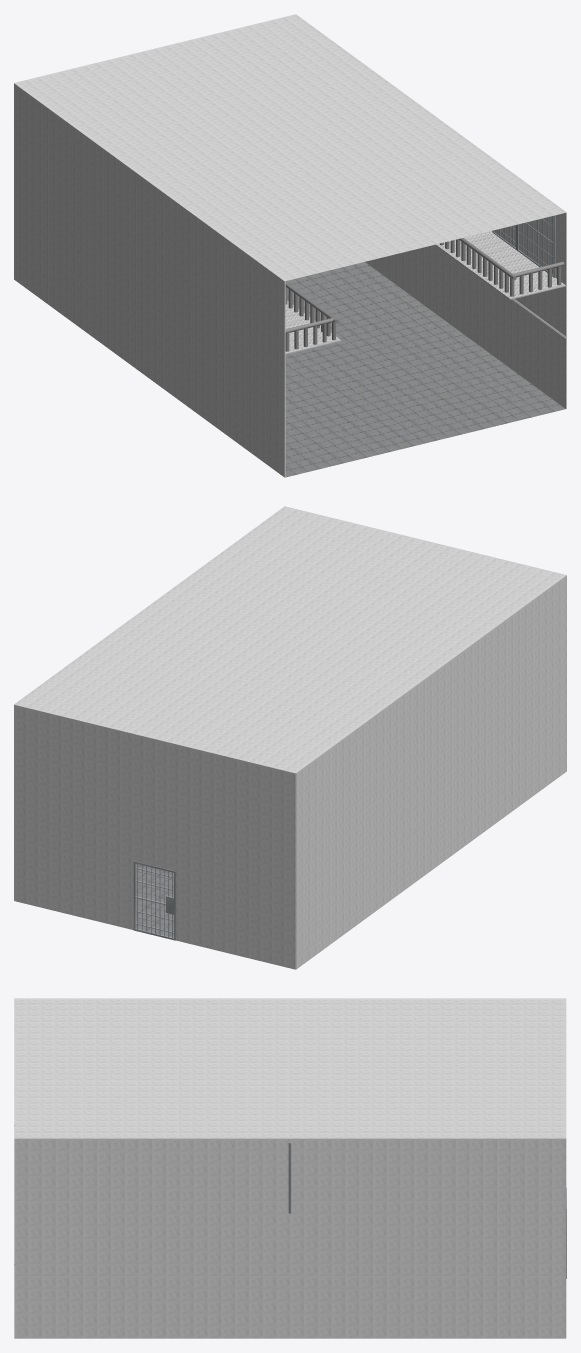
Rendered from Escenario VFINAL.FBX.
3 views of the same model, one above another, from view 1: azimuth 30°, elevation 25°; view 2: azimuth 150°, elevation 25°; view 3: azimuth 270°, elevation 25° (orthographic).
Parts seen in each view (by area): view 1: Plane002, Box014, Plane001, Box015, Box017, Box072, Box018; view 2: Plane002, Box014, Box016, Plane001; view 3: Box015, Plane002, Box014.
Part boxes in pixels (box(x1,y1,x2,y2)): Plane002: box(15, 14, 565, 280); Box014: box(14, 83, 285, 477); Plane001: box(285, 262, 565, 477); Box015: box(295, 14, 566, 408); Box017: box(435, 231, 566, 299); Box072: box(494, 216, 552, 274); Box018: box(285, 301, 341, 354); Plane002: box(15, 506, 565, 772); Box014: box(296, 575, 566, 969); Box016: box(14, 704, 295, 969); Plane001: box(136, 864, 173, 937); Box015: box(14, 1138, 565, 1338); Plane002: box(14, 998, 565, 1138); Box014: box(14, 998, 565, 998).
Size of the model in its own units: 302 by 200 by 501.
39 materials, 38 textured.
